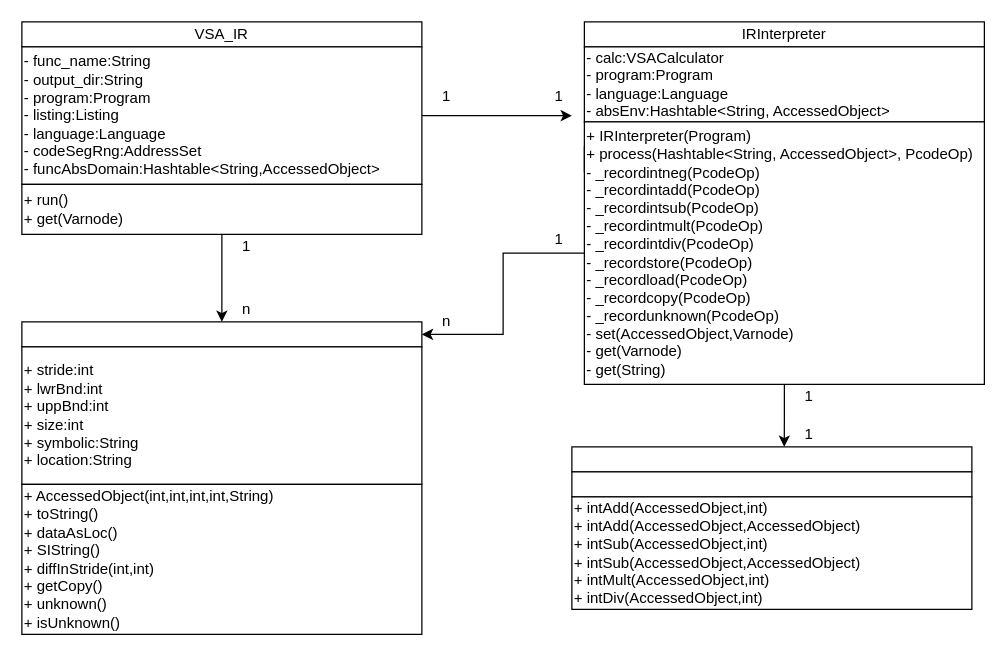
Image size: 1006x656. Some labels were removed from this diagram. Here are the shapes that lost their labels. From the top down, the centre of each, then its label:
At [221,334]: "AccessedObject".
At [771,459]: "VSACalculator".
